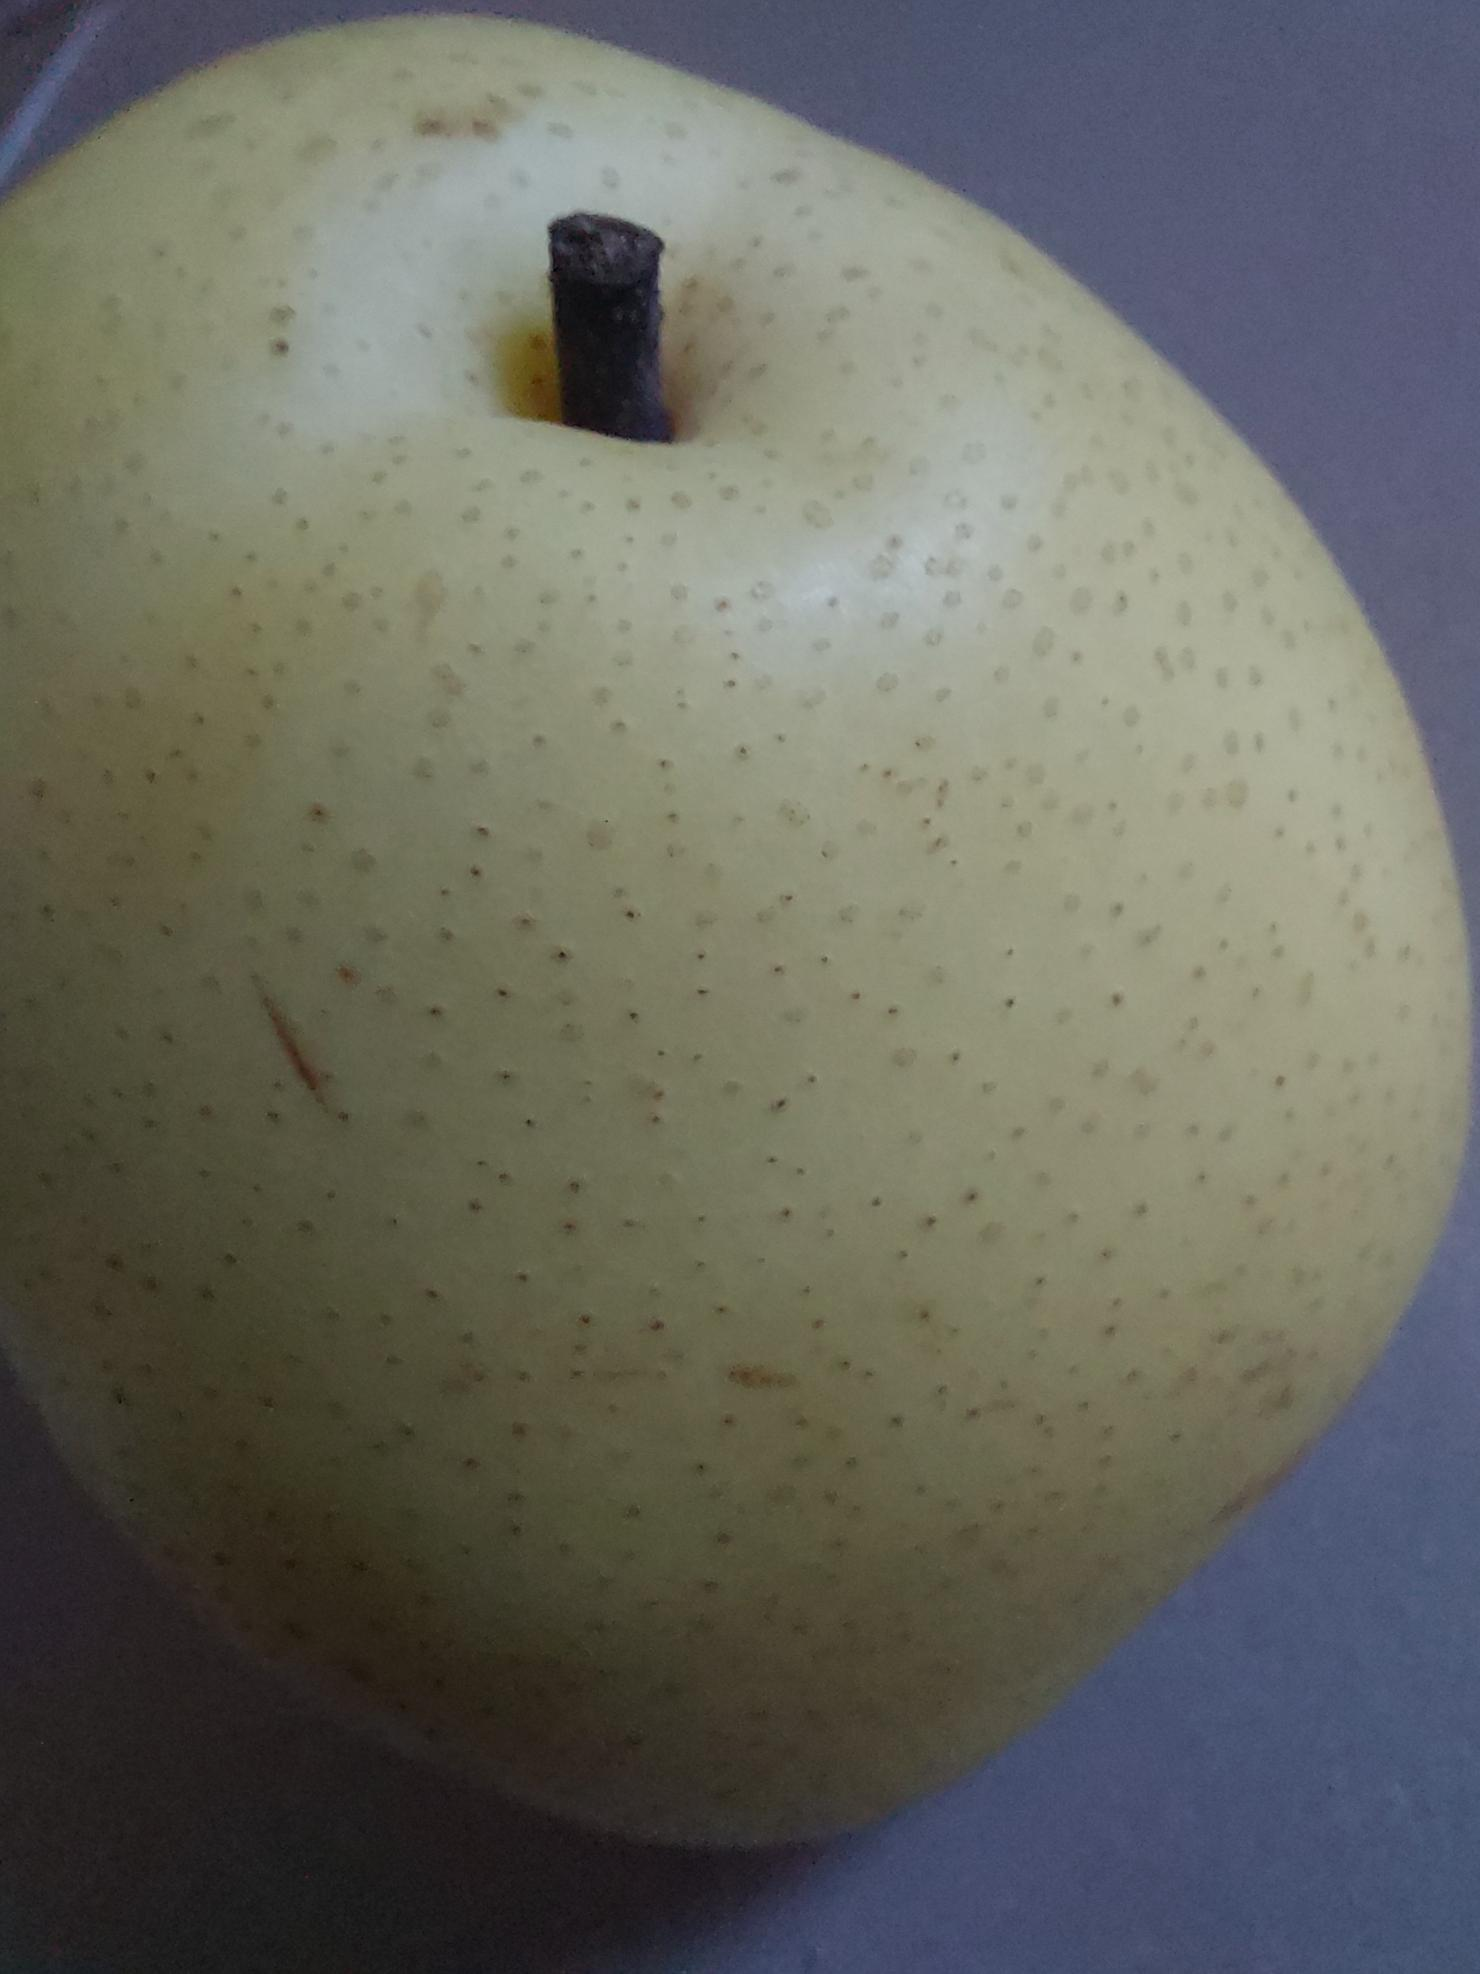Good Pear: (0, 0, 1480, 1898)
